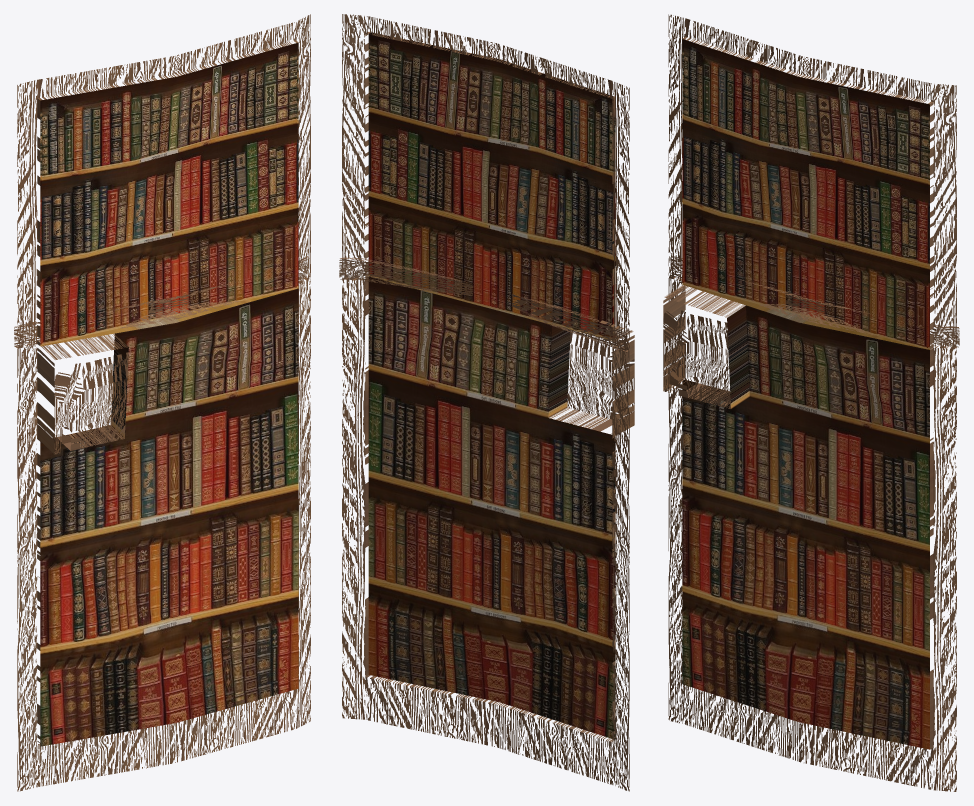
The model's file is parete4.fbx.
The picture shows the model from 3 angles, left to right: view 1: azimuth 30°, elevation 25°; view 2: azimuth 150°, elevation 25°; view 3: azimuth 330°, elevation 25°; orthographic projection.
Parts seen in each view (by area): view 1: Circle.004; view 2: Circle.004; view 3: Circle.004.
Part boxes in pixels (x1,y1,x2,y2): Circle.004: (14, 14, 310, 791); Circle.004: (339, 14, 634, 791); Circle.004: (663, 14, 959, 791).
Bounding box in the file's own units: 536 × 1246 × 93.7.
